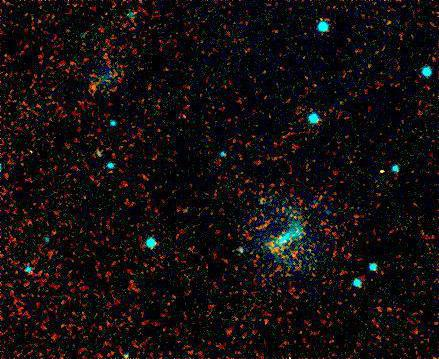star: (357, 154, 387, 184)
